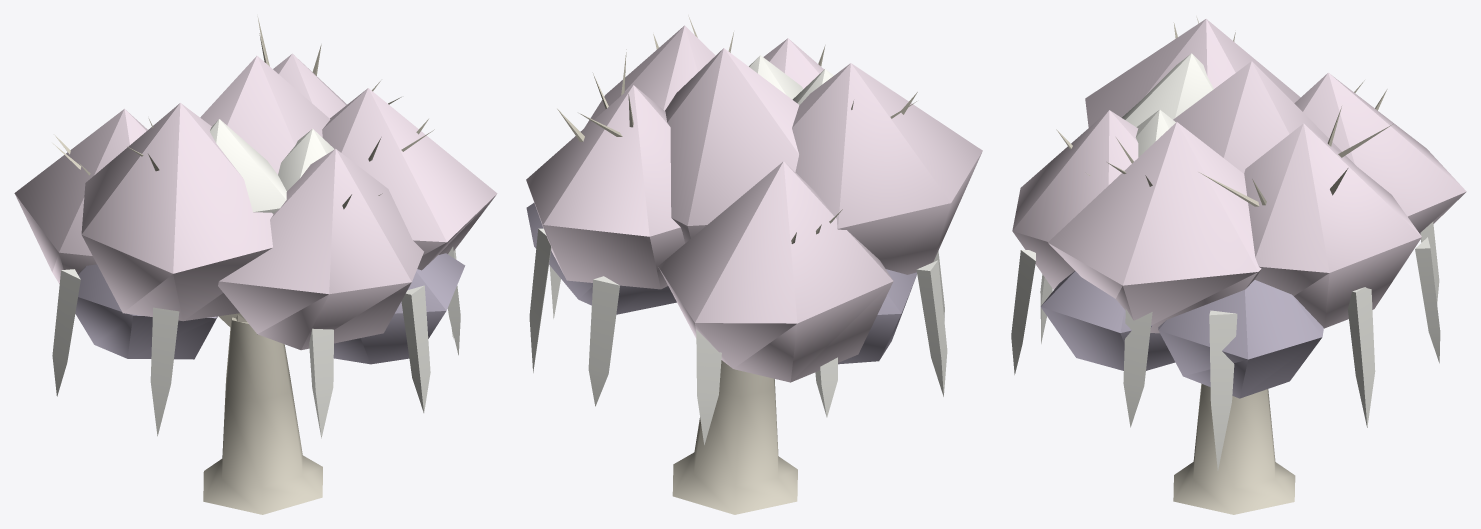
The model's file is tree_anima.obj.
The picture shows the model from 3 angles, left to right: view 1: azimuth 30°, elevation 25°; view 2: azimuth 150°, elevation 25°; view 3: azimuth 270°, elevation 25°; orthographic projection. The views are drawn at different scales.
Visible parts, largest first — view 1: source_component_042, source_component_043, source_component_000, source_component_039, source_component_041, source_component_044, source_component_037, source_component_038, source_component_045, source_component_053, source_component_055, source_component_052 (+4 smaller); view 2: source_component_041, source_component_042, source_component_040, source_component_044, source_component_000, source_component_039, source_component_049, source_component_037, source_component_036, source_component_052, source_component_050, source_component_048 (+3 smaller); view 3: source_component_039, source_component_040, source_component_036, source_component_041, source_component_000, source_component_043, source_component_044, source_component_042, source_component_038, source_component_045, source_component_047, source_component_048 (+5 smaller).
Part boxes in pixels (<box>): source_component_042: <box>81,103,273,321</box>; source_component_043: <box>218,149,423,350</box>; source_component_000: <box>203,317,322,514</box>; source_component_039: <box>322,88,497,270</box>; source_component_041: <box>14,109,147,283</box>; source_component_044: <box>200,56,330,174</box>; source_component_037: <box>75,264,217,359</box>; source_component_038: <box>333,253,465,364</box>; source_component_045: <box>209,119,286,213</box>; source_component_053: <box>150,307,179,436</box>; source_component_055: <box>401,285,430,412</box>; source_component_052: <box>52,269,80,396</box>; source_component_041: <box>658,161,893,382</box>; source_component_042: <box>792,63,982,274</box>; source_component_040: <box>526,85,684,289</box>; source_component_044: <box>665,48,798,243</box>; source_component_000: <box>672,360,797,514</box>; source_component_039: <box>584,25,715,127</box>; source_component_049: <box>588,276,619,406</box>; source_component_037: <box>838,269,916,364</box>; source_component_036: <box>526,203,676,314</box>; source_component_052: <box>916,260,947,396</box>; source_component_050: <box>696,329,721,444</box>; source_component_048: <box>529,228,551,372</box>; source_component_039: <box>1048,122,1261,333</box>; source_component_040: <box>1244,123,1421,328</box>; source_component_036: <box>1158,280,1323,398</box>; source_component_041: <box>1294,72,1466,234</box>; source_component_000: <box>1173,383,1295,514</box>; source_component_043: <box>1012,110,1138,289</box>; source_component_044: <box>1173,61,1355,173</box>; source_component_042: <box>1085,19,1300,127</box>; source_component_038: <box>1040,271,1175,370</box>; source_component_045: <box>1122,53,1213,127</box>; source_component_047: <box>1209,310,1237,470</box>; source_component_048: <box>1347,287,1375,427</box>.
Size of the model in its own units: 1.01 by 1.03 by 0.9889.
